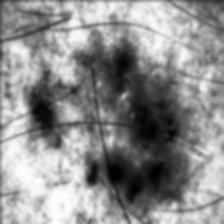Potentially Malignant Skin Tumors: (105, 155, 140, 206)
